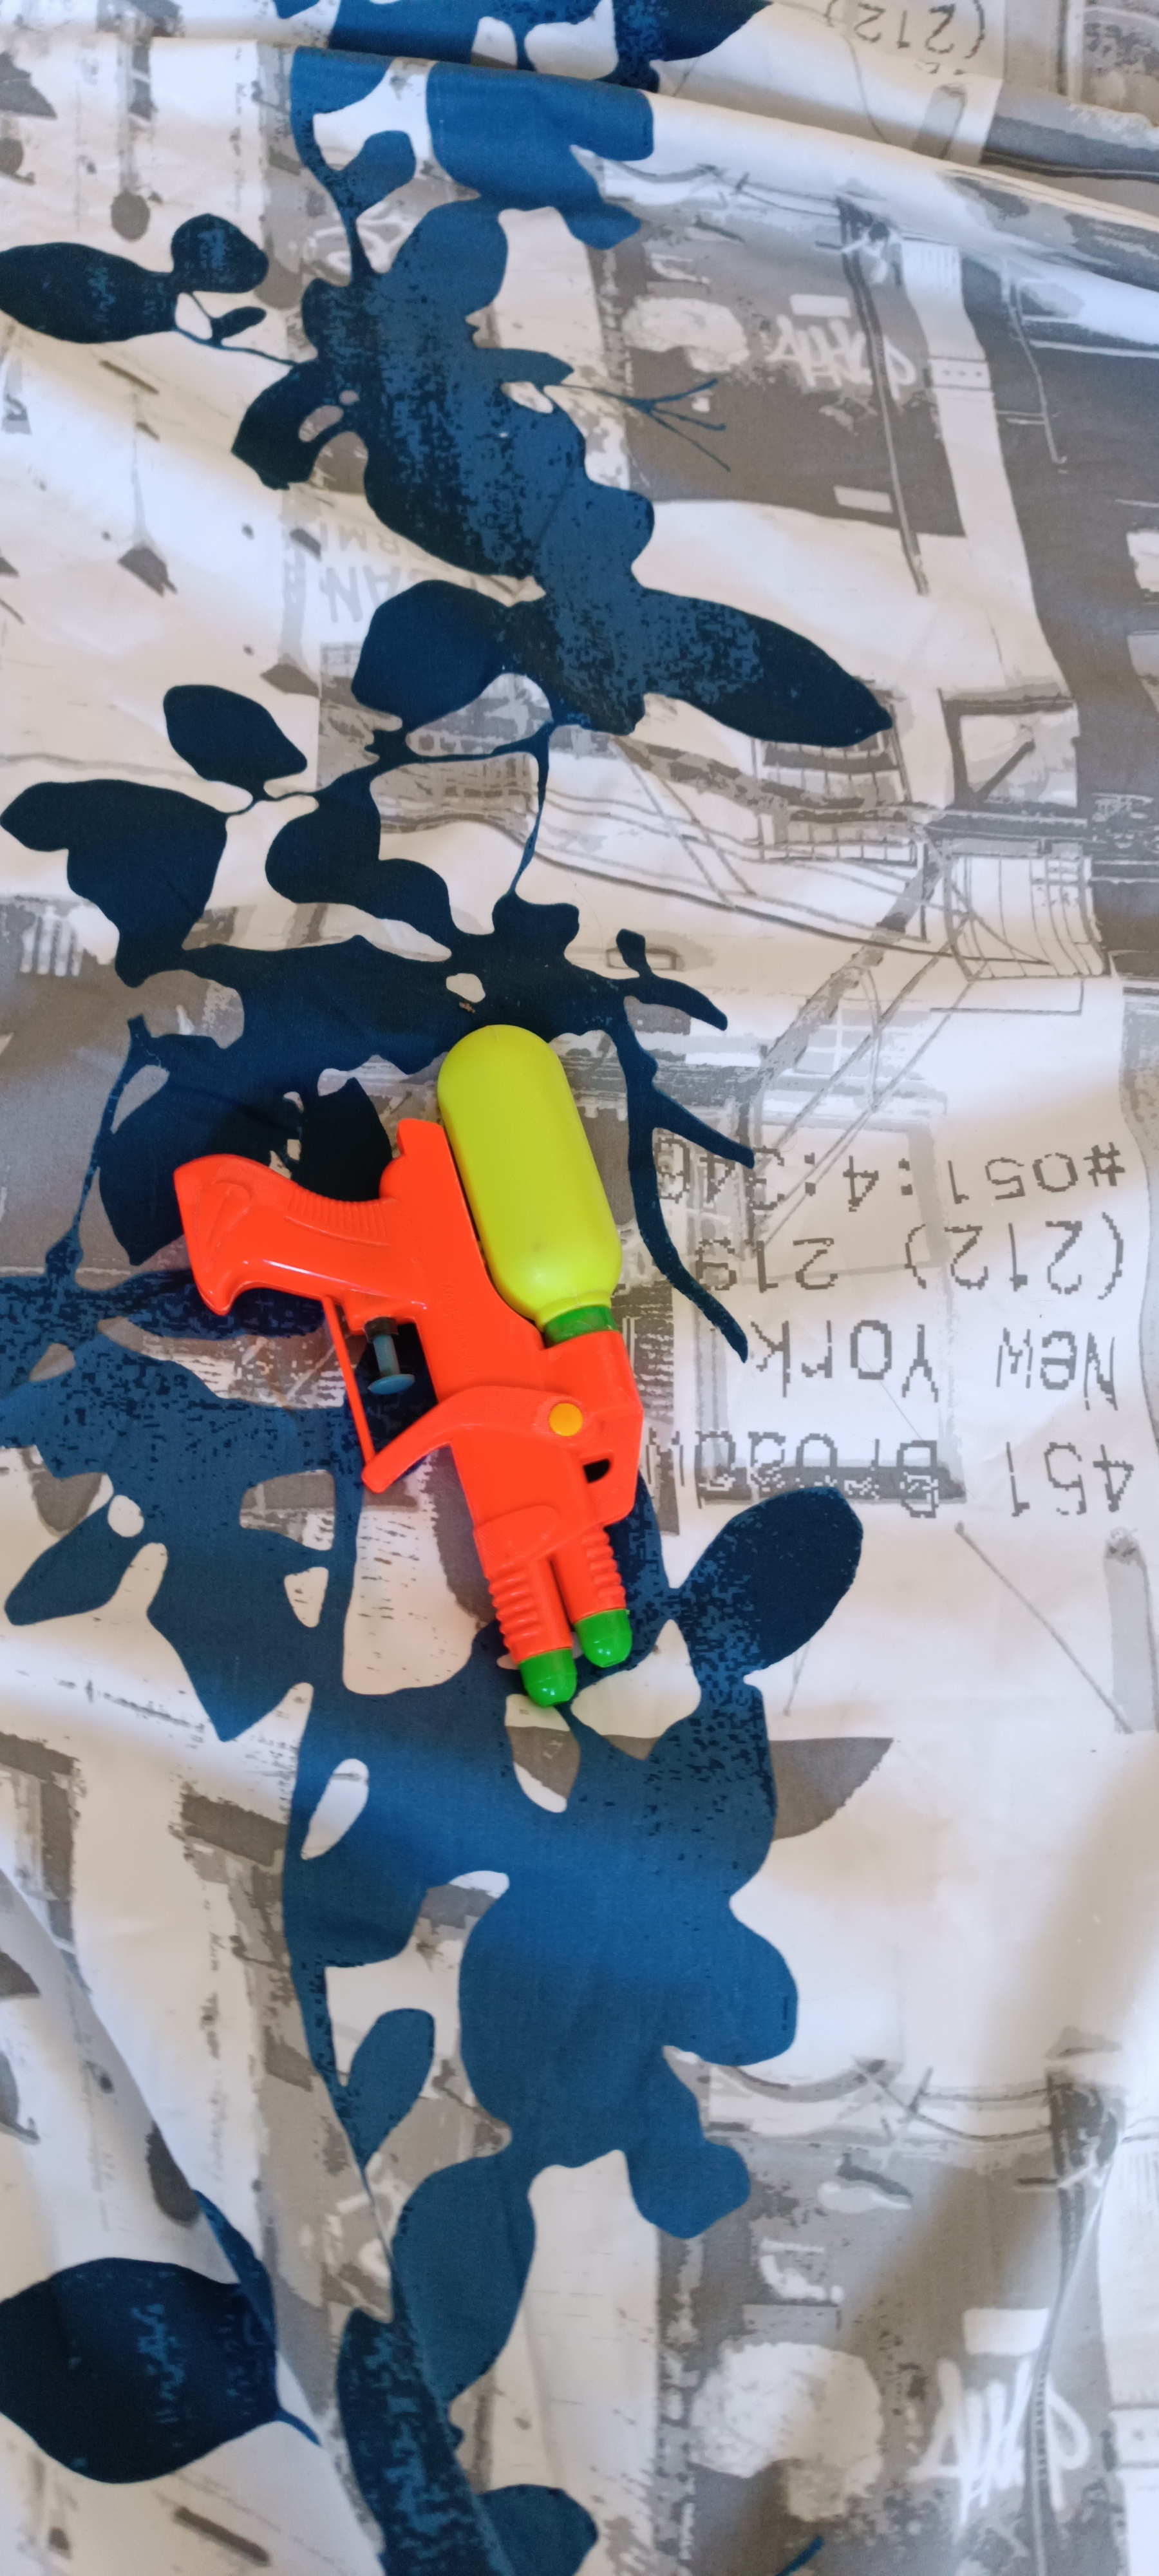Water Gun: (174, 1025, 645, 1712)
